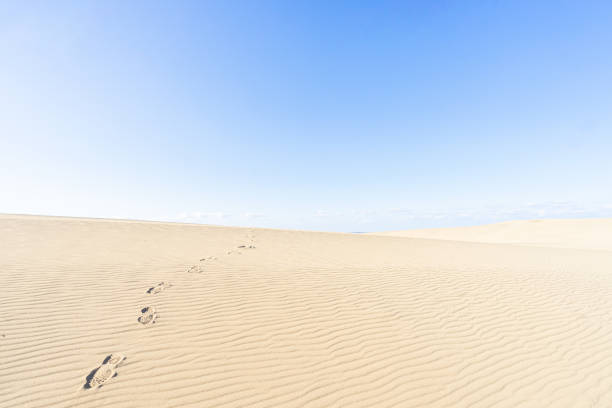human_footprint: (84, 353, 126, 389), (138, 306, 158, 325), (147, 281, 171, 293)
